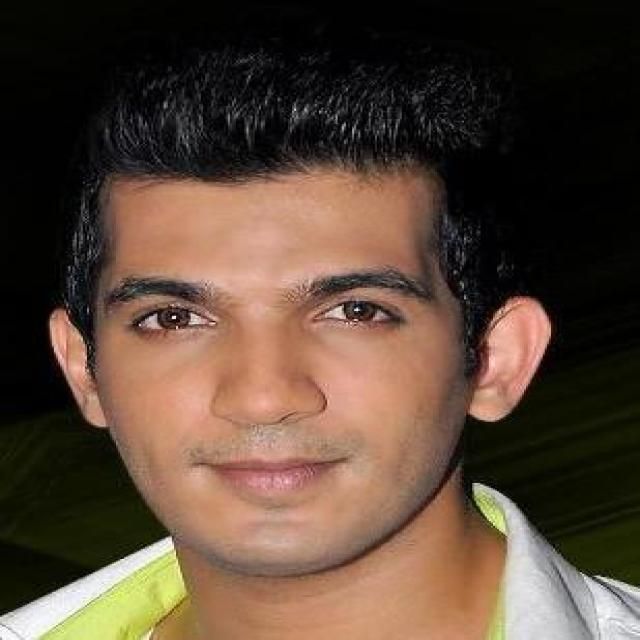0_rostro_limpio: (65, 106, 507, 588)
